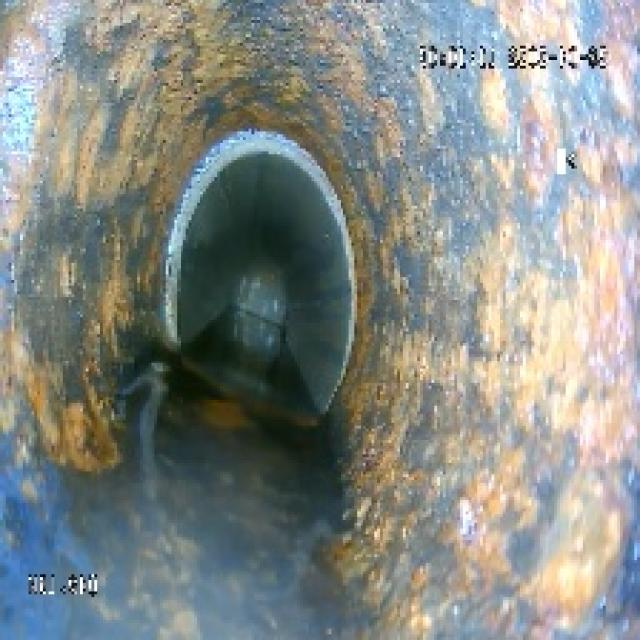encrustation: (31, 71, 614, 528)
